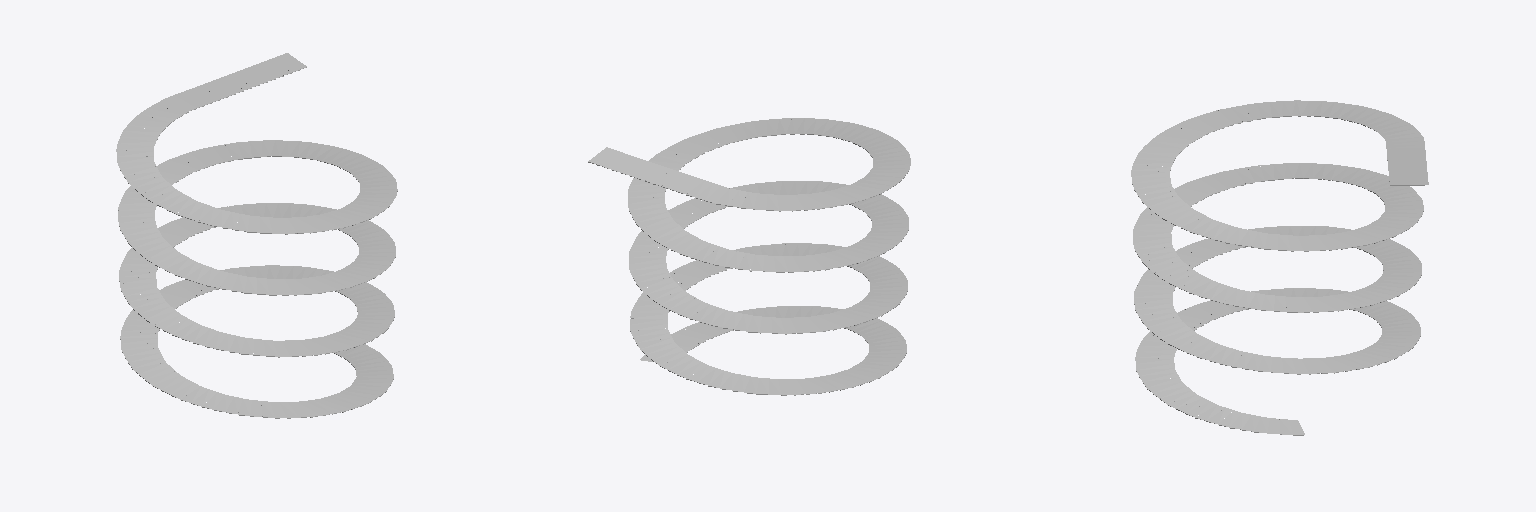
File: stairs0.1.obj
3 views of the same model, side by side, from view 1: azimuth 30°, elevation 25°; view 2: azimuth 150°, elevation 25°; view 3: azimuth 270°, elevation 25° (orthographic).
Visible parts, largest first — view 1: Cube; view 2: Cube; view 3: Cube.
Boxes of the visible parts, x1,y1,x2,y2 form: Cube: [116, 53, 397, 418]; Cube: [588, 118, 910, 395]; Cube: [1131, 100, 1428, 435].
Bounding box in the file's own units: 10.54 × 10.29 × 11.27.